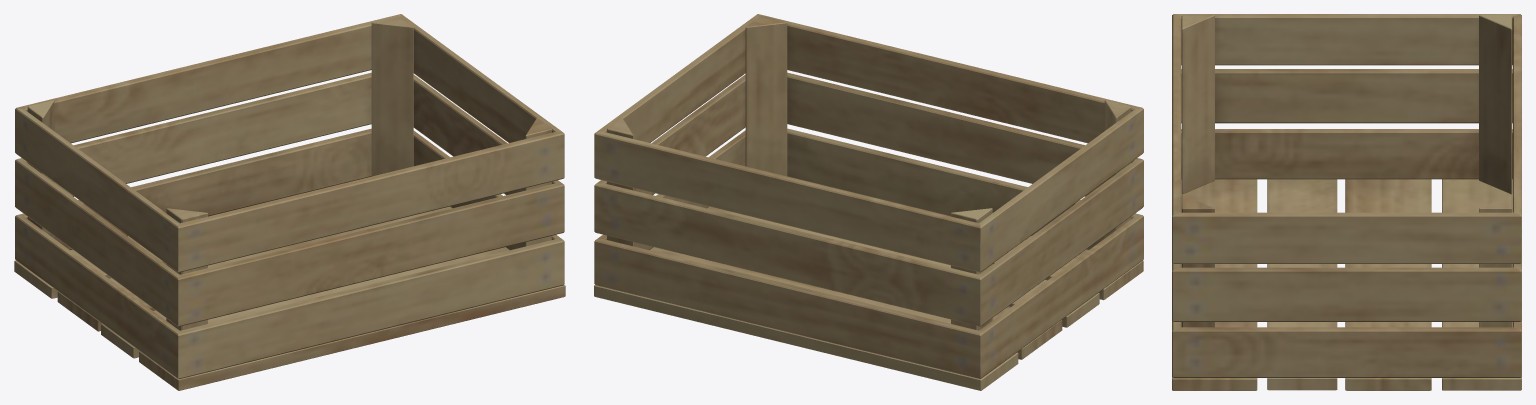
The model's file is woodenBox.fbx.
The picture shows the model from 3 angles, left to right: view 1: azimuth 30°, elevation 25°; view 2: azimuth 150°, elevation 25°; view 3: azimuth 270°, elevation 25°; orthographic projection. The views are drawn at different scales.
Parts seen in each view (by area): view 1: wooden_box_big; view 2: wooden_box_big; view 3: wooden_box_big.
Boxes of the visible parts, x1,y1,x2,y2 form: wooden_box_big: (14,14,565,390); wooden_box_big: (594,14,1143,390); wooden_box_big: (1172,14,1521,390).
Bounding box in the file's own units: 70.25 × 28.85 × 51.27.
1 material, 1 textured.
